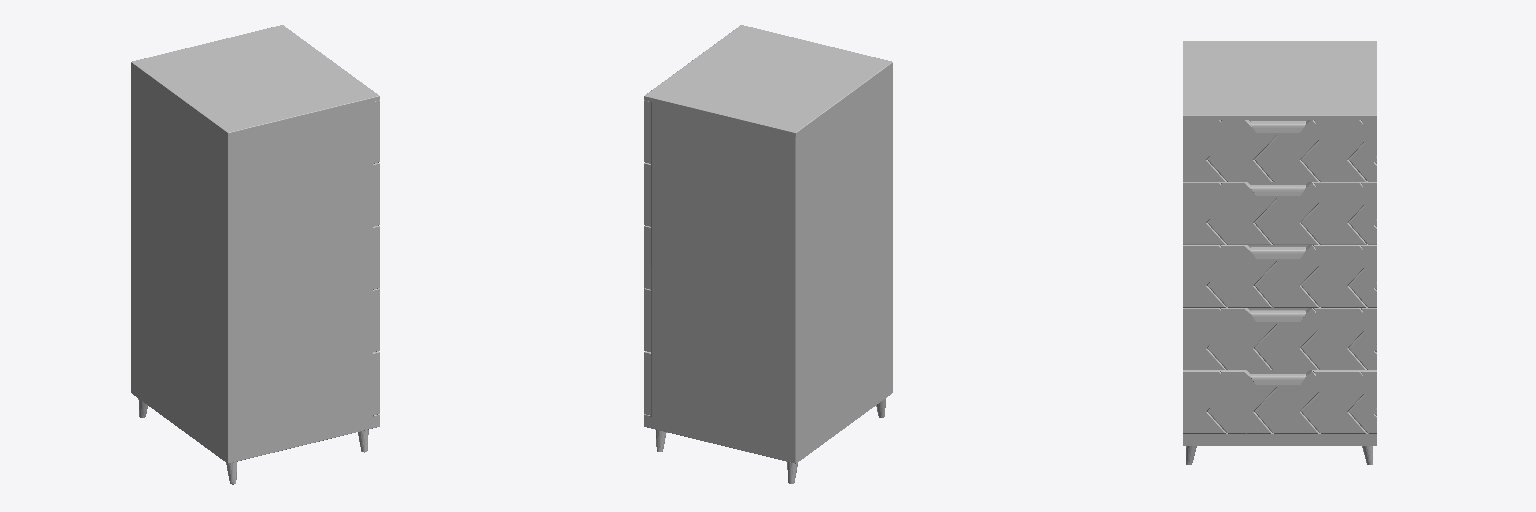
File: Scandy Grey.obj
3 renders of one model, left to right at view 1: azimuth 30°, elevation 25°; view 2: azimuth 150°, elevation 25°; view 3: azimuth 270°, elevation 25°, orthographic.
Visible parts, largest first — view 1: Box001; view 2: Box001; view 3: Box001.
Boxes of the visible parts, x1=… form: Box001: x1=131, y1=25, x2=379, y2=484; Box001: x1=644, y1=25, x2=892, y2=483; Box001: x1=1183, y1=41, x2=1376, y2=464.
Size of the model in its own units: 546 by 1206 by 600.